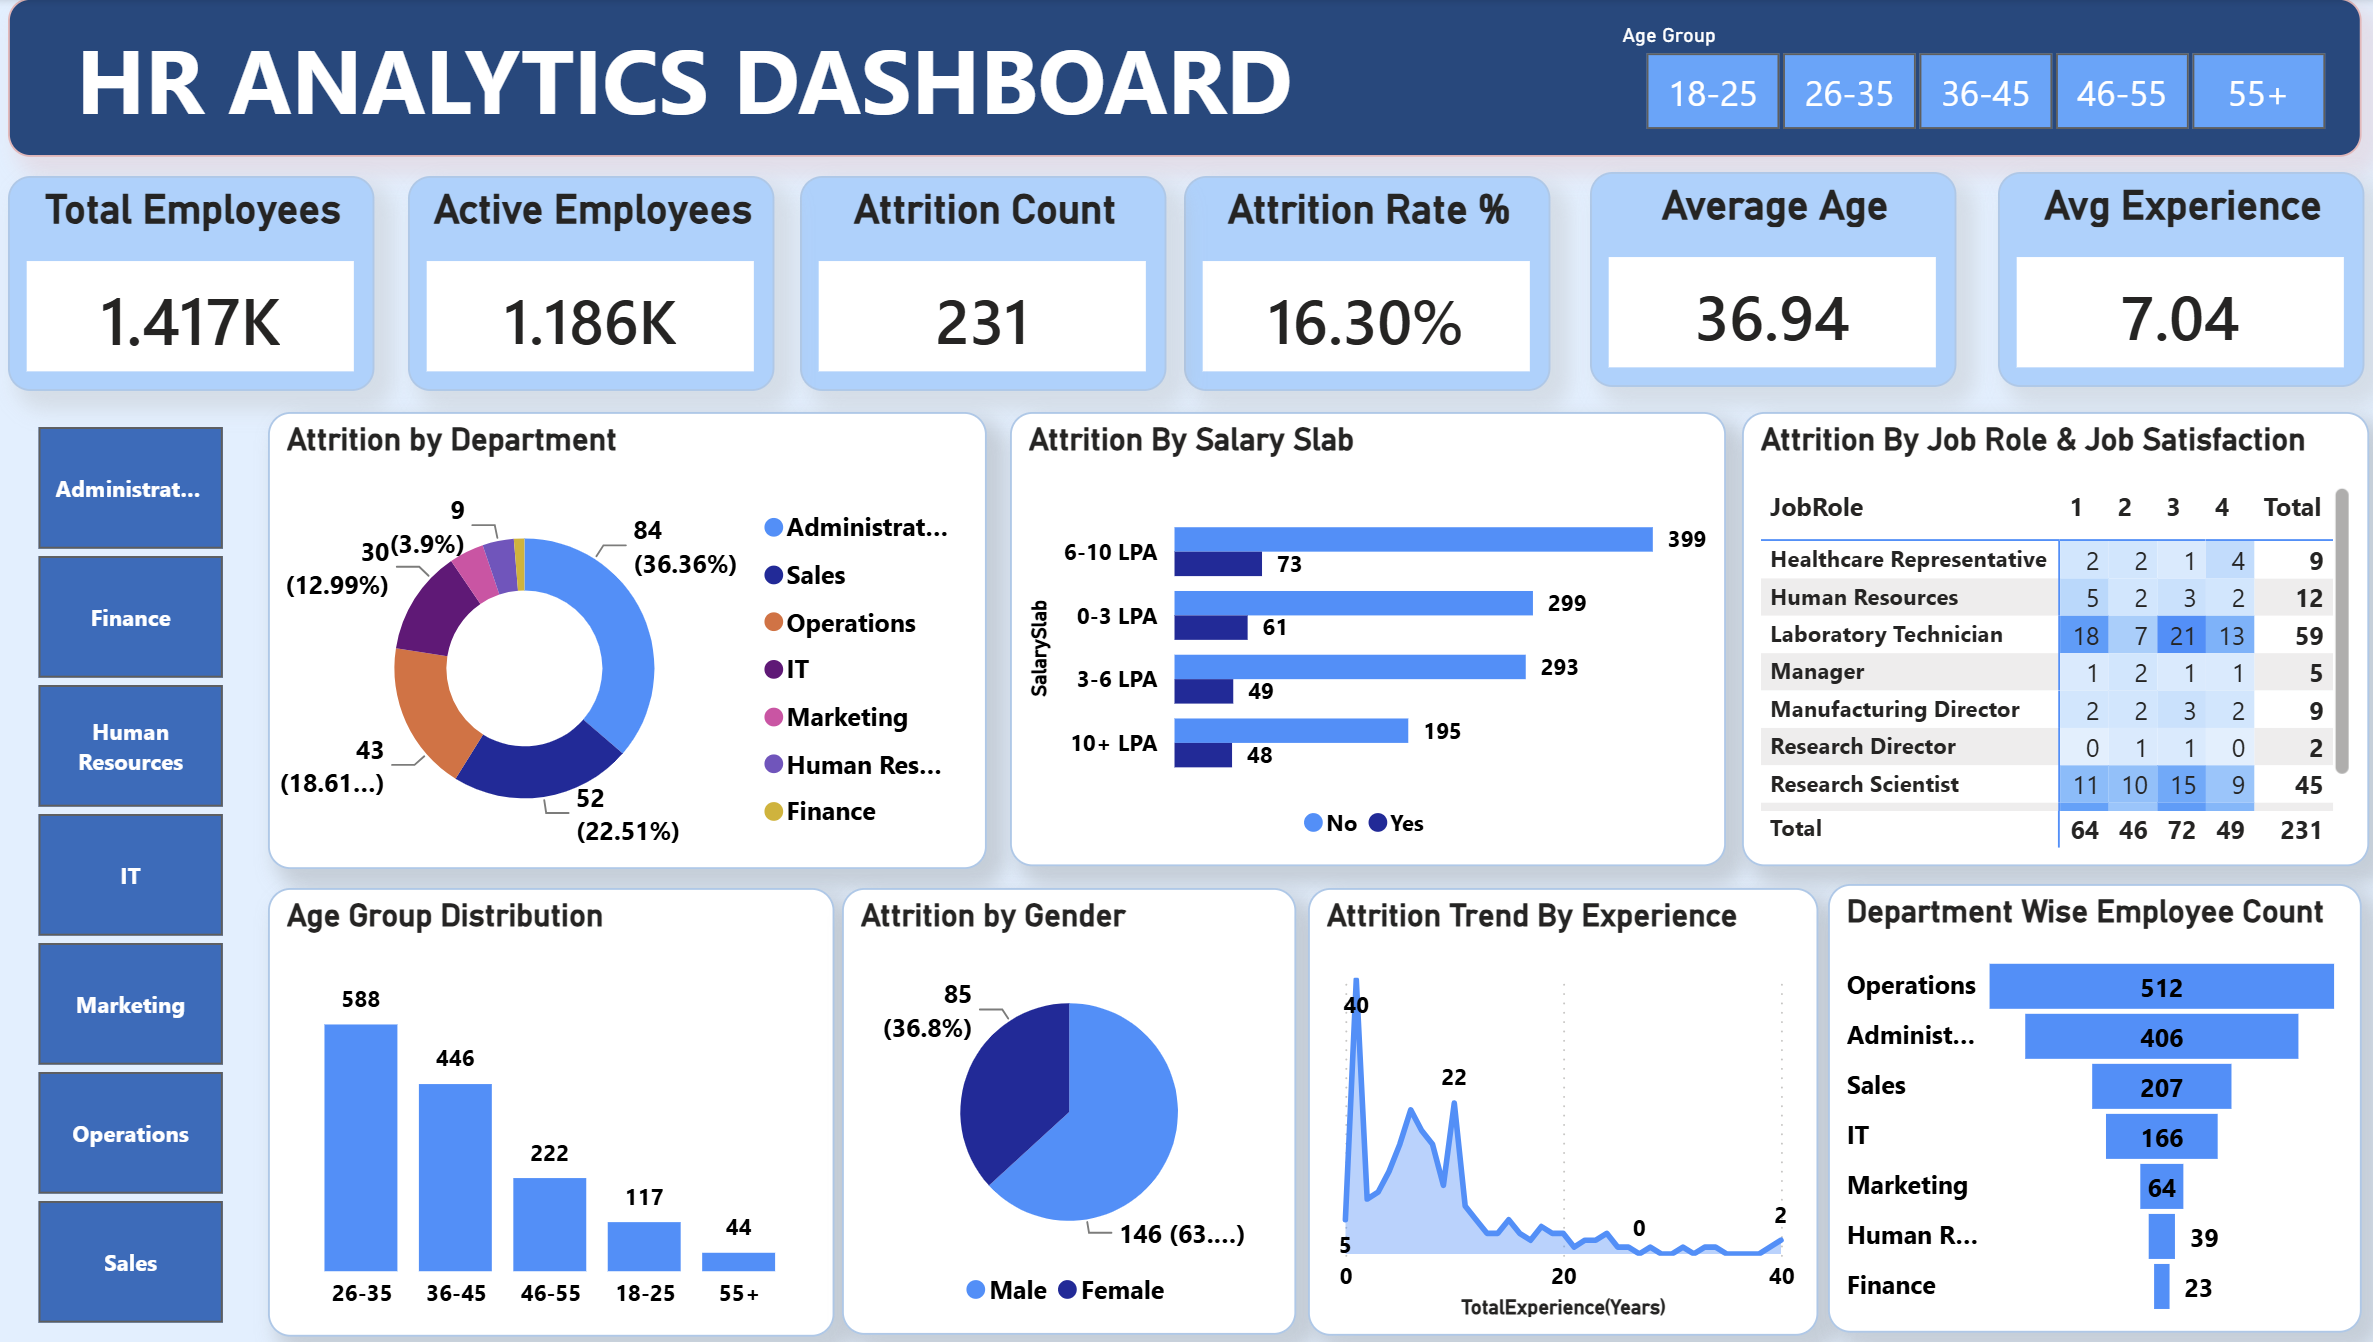

The dashboard page shown, as its layout file describes it:
{"tool":"powerbi","page":{"name":"HR ANALYTICS","canvas":[1280,720],"ordinal":0},"visuals":[{"type":"textbox","box":[10.7,0,1259,85],"z":0},{"type":"cardVisual","title":"Total Employees","fields":{"Data":["CountNonNull(HR_Analytics-4.EmpID)"]},"box":[10.8,94.9,196,114.8],"z":1000},{"type":"cardVisual","title":"Avg Experience","fields":{"Data":["Avg(HR_Analytics-4.YearsatCompany)"]},"box":[1075.3,93.6,196,114.8],"z":2000},{"type":"cardVisual","title":"Average Age","fields":{"Data":["Avg(HR_Analytics-4.Age)"]},"box":[856.9,93.6,196,114.8],"z":3000},{"type":"cardVisual","title":"Attrition Rate %","fields":{"Data":["HR_Analytics-4.Attrition Rate %"]},"box":[640,94.9,196,114.8],"z":4000},{"type":"cardVisual","title":"Attrition Count","fields":{"Data":["Sum(HR_Analytics-4.AttritionCount)"]},"box":[433.9,94.9,196,114.8],"z":5000},{"type":"cardVisual","title":"Active Employees","fields":{"Data":["CountNonNull(HR_Analytics-4.EmployeeCount)"]},"box":[225.1,94.9,196,114.8],"z":6000},{"type":"donutChart","title":"Attrition by Department","fields":{"Category":["HR_Analytics-4.Department"],"Y":["Sum(HR_Analytics-4.AttritionCount)"]},"box":[150,221.4,384.3,244.3],"z":7000},{"type":"clusteredBarChart","title":"Attrition By Salary Slab","fields":{"Category":["HR_Analytics-4.SalarySlab"],"Y":["CountNonNull(HR_Analytics-4.EmpID)"],"Series":["HR_Analytics-4.Attrition"]},"box":[547.1,221.4,382.9,242.9],"z":8000},{"type":"pivotTable","title":"Attrition By Job Role & Job Satisfaction","fields":{"Rows":["HR_Analytics-4.JobRole"],"Values":["Sum(HR_Analytics-4.AttritionCount)"],"Columns":["HR_Analytics-4.JobSatisfaction"]},"box":[938.6,221.4,335.7,242.9],"z":9000},{"type":"columnChart","title":"Age Group Distribution","fields":{"Category":["HR_Analytics-4.AgeGroup"],"Y":["Sum(HR_Analytics-4.EmployeeCount)"]},"box":[150,475.7,302.9,240],"z":10000},{"type":"pieChart","title":"Attrition by Gender","fields":{"Category":["HR_Analytics-4.Gender"],"Y":["Sum(HR_Analytics-4.AttritionCount)"]},"box":[457.1,475.7,243,239],"z":11000},{"type":"areaChart","title":"Attrition Trend By Experience","fields":{"Category":["HR_Analytics-4.TotalExperience(Years)"],"Y":["Sum(HR_Analytics-4.AttritionCount)"]},"box":[705.7,475.7,273,239.7],"z":12000},{"type":"funnel","title":"Department Wise Employee Count","fields":{"Category":["HR_Analytics-4.Department"],"Y":["CountNonNull(HR_Analytics-4.EmpID)"]},"box":[984.3,474.3,285.7,240],"z":13000},{"type":"slicer","fields":{"Values":["HR_Analytics-4.Department"]},"box":[1.4,222.9,148.6,492.9],"z":14000},{"type":"slicer","fields":{"Values":["HR_Analytics-4.AgeGroup"]},"box":[861.4,8.6,412.9,68.6],"z":15000}]}

Visuals, with their boxes in screenshot pixels (x1, y1, x2, y2), scaled from the page's 1280x720 canvas onto the 2373x1342 screenshot:
textbox: {"x1": 20, "y1": 0, "x2": 2354, "y2": 158}
"Total Employees" cardVisual: {"x1": 20, "y1": 177, "x2": 383, "y2": 391}
"Avg Experience" cardVisual: {"x1": 1994, "y1": 174, "x2": 2357, "y2": 388}
"Average Age" cardVisual: {"x1": 1589, "y1": 174, "x2": 1952, "y2": 388}
"Attrition Rate %" cardVisual: {"x1": 1186, "y1": 177, "x2": 1550, "y2": 391}
"Attrition Count" cardVisual: {"x1": 804, "y1": 177, "x2": 1168, "y2": 391}
"Active Employees" cardVisual: {"x1": 417, "y1": 177, "x2": 781, "y2": 391}
"Attrition by Department" donutChart: {"x1": 278, "y1": 413, "x2": 991, "y2": 868}
"Attrition By Salary Slab" clusteredBarChart: {"x1": 1014, "y1": 413, "x2": 1724, "y2": 865}
"Attrition By Job Role & Job Satisfaction" pivotTable: {"x1": 1740, "y1": 413, "x2": 2362, "y2": 865}
"Age Group Distribution" columnChart: {"x1": 278, "y1": 887, "x2": 840, "y2": 1334}
"Attrition by Gender" pieChart: {"x1": 847, "y1": 887, "x2": 1298, "y2": 1332}
"Attrition Trend By Experience" areaChart: {"x1": 1308, "y1": 887, "x2": 1814, "y2": 1333}
"Department Wise Employee Count" funnel: {"x1": 1825, "y1": 884, "x2": 2354, "y2": 1331}
slicer - HR_Analytics-4.Department: {"x1": 3, "y1": 415, "x2": 278, "y2": 1334}
slicer - HR_Analytics-4.AgeGroup: {"x1": 1597, "y1": 16, "x2": 2362, "y2": 144}
